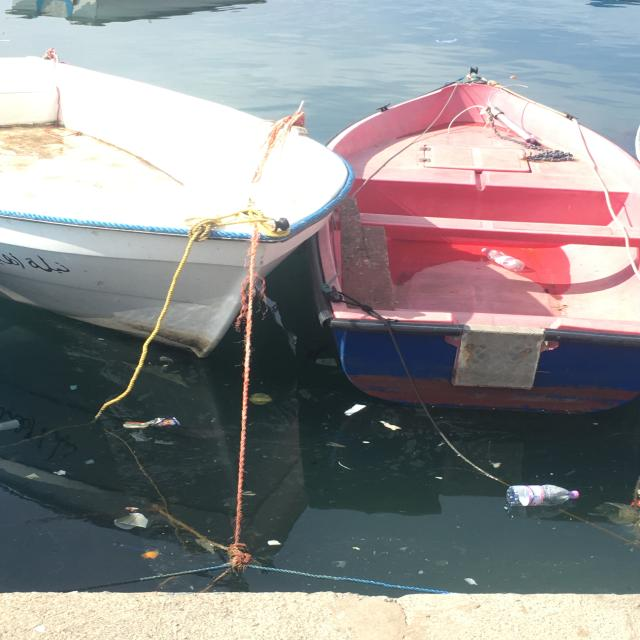Plastic: (314, 357, 339, 368), (329, 559, 348, 569), (463, 578, 478, 586)
Plastic bag: (304, 344, 330, 359)
Plastic bottle: (500, 482, 582, 512)
Plastic cup: (112, 512, 151, 532), (248, 390, 274, 406), (0, 417, 23, 431)
Plastic packaging: (120, 415, 182, 431)
Undefined trash: (343, 402, 367, 417), (377, 419, 403, 432), (324, 440, 348, 450), (264, 538, 284, 548), (25, 472, 41, 480), (52, 469, 67, 477), (84, 458, 95, 466)
